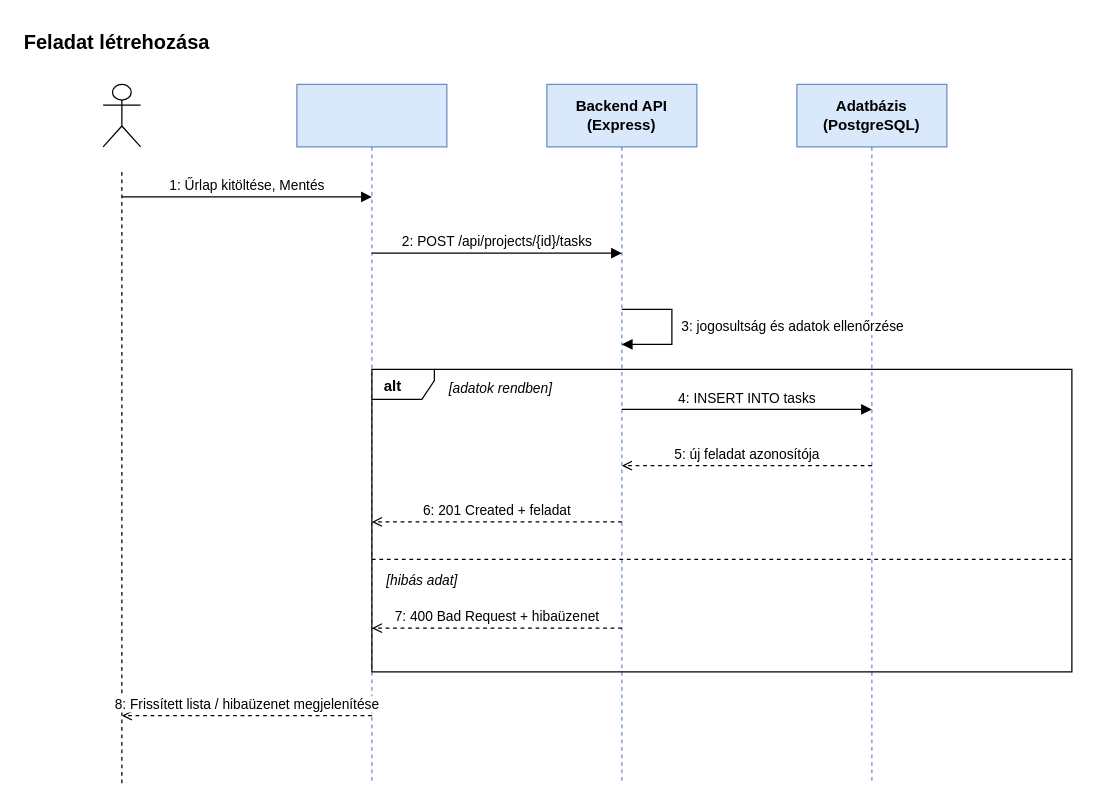
Some shapes in this 1095 by 808 pixel diagram are drawn without their labels. Each missing label, with the box of its shape:
Csapattag: (102, 83, 141, 147)
Frontend (React): (296, 83, 447, 784)
